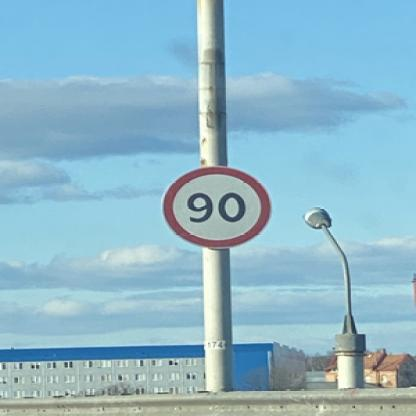Speed Limit 90: (163, 168, 270, 248)
